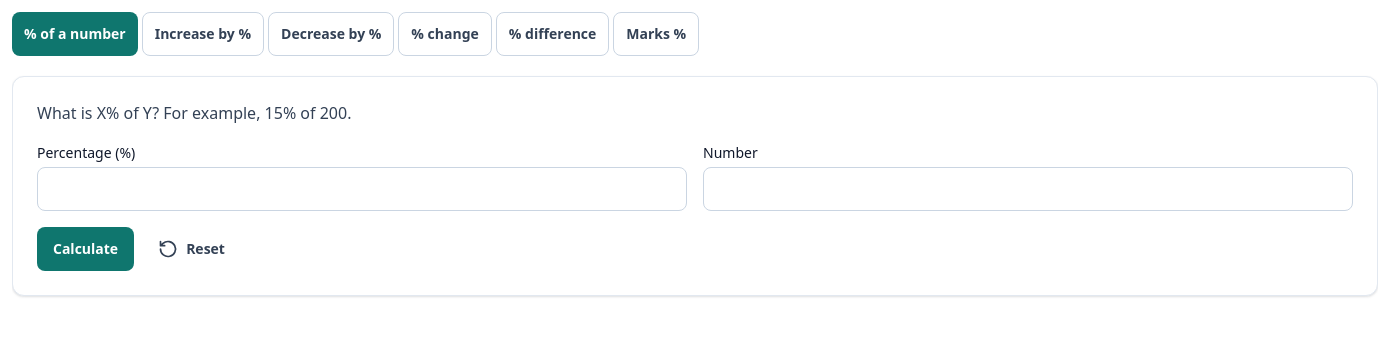
Test: PercentageCalculator › explains invalid input
What coordinates should you click on to do the following:
click the button "Calculate"
I would click on:
 (86, 249)
Its box is 37,227 -> 134,271.
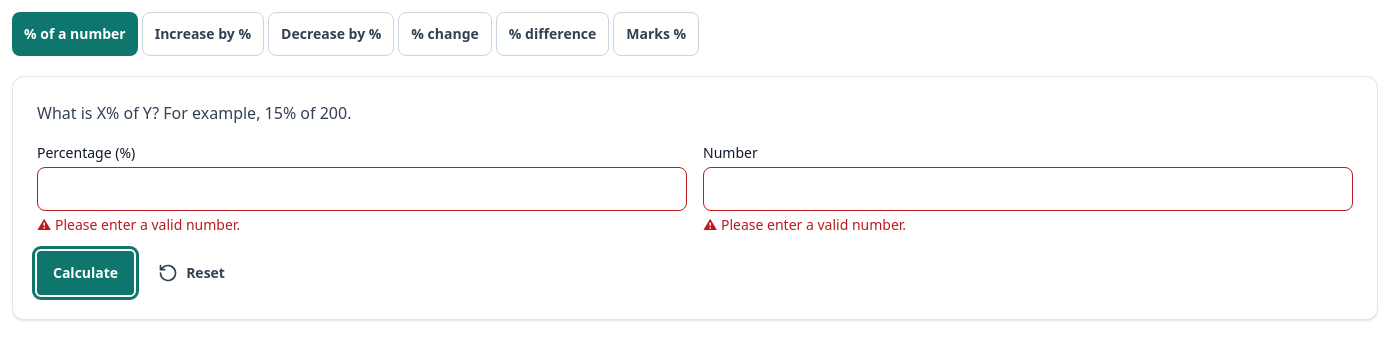
Check: the text "Please enter a valid number." is shown 2 times, box 37,215 -> 240,234; 703,215 -> 906,234
